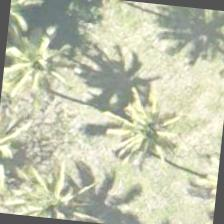Kelapa_Sawit: (95, 75, 194, 174), (0, 17, 82, 114), (8, 157, 103, 223)
